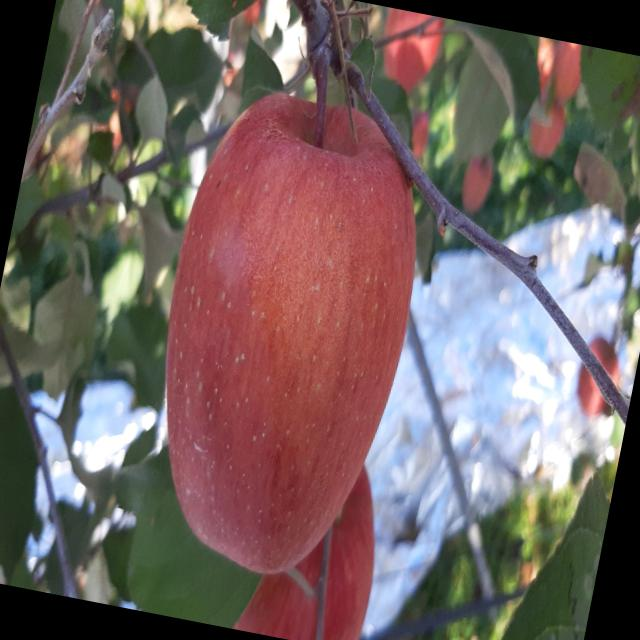fresh: (117, 62, 456, 603)
